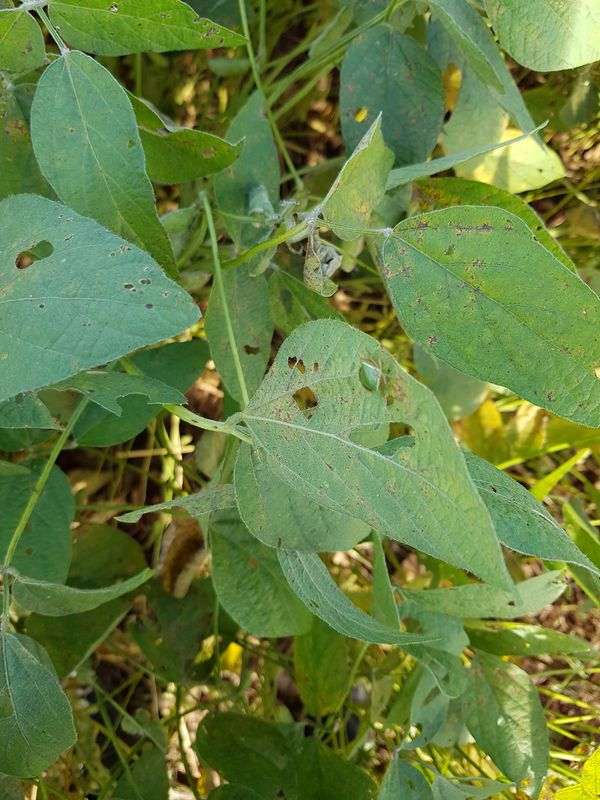Edessa_meditabunda: (345, 351, 405, 404)
